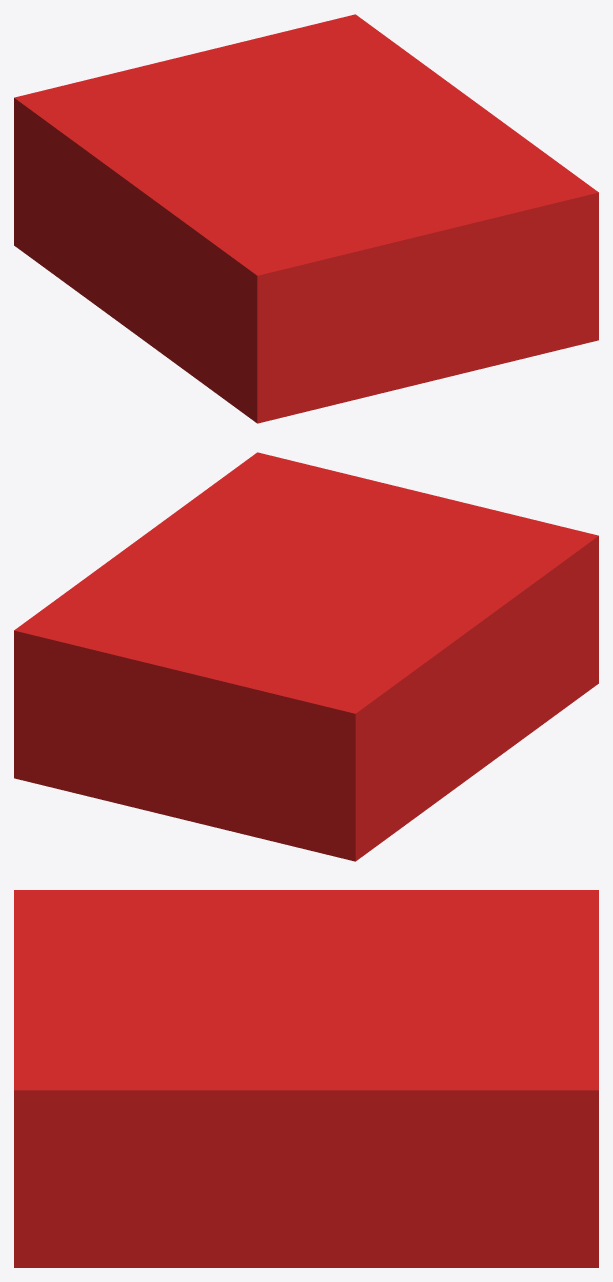
Rendered from SunBlocker.FBX.
The picture shows the model from 3 angles, top to bottom: view 1: azimuth 30°, elevation 25°; view 2: azimuth 150°, elevation 25°; view 3: azimuth 270°, elevation 25°; orthographic projection. The views are drawn at different scales.
Visible parts, largest first — view 1: Shell004; view 2: Shell004; view 3: Shell004.
Boxes of the visible parts, left/top/right/bottom form: Shell004: left=14, top=14, right=598, bottom=423; Shell004: left=14, top=452, right=598, bottom=861; Shell004: left=14, top=890, right=598, bottom=1267.
Size of the model in its own units: 652 by 270 by 804.
